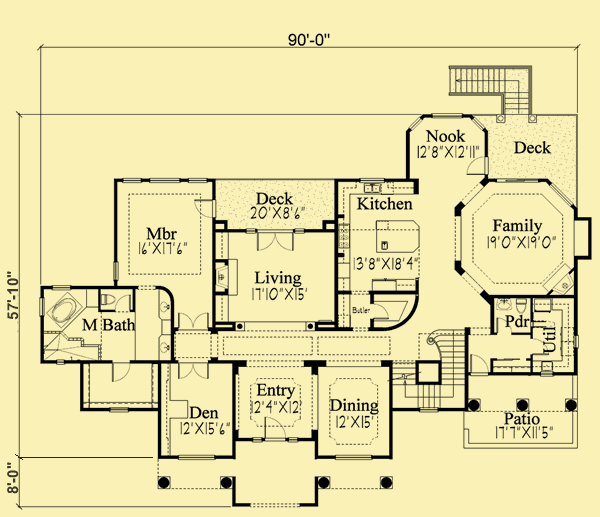door: (254, 230, 298, 255), (175, 360, 211, 382), (260, 414, 286, 442), (174, 310, 211, 329), (190, 195, 218, 219), (465, 153, 489, 177), (112, 358, 132, 385), (528, 336, 552, 356), (114, 294, 136, 314), (468, 352, 487, 374), (494, 314, 516, 333), (372, 301, 391, 319)
kitchen bar: (372, 218, 423, 255)
large sink: (514, 297, 532, 316), (99, 290, 115, 307)
small sink: (154, 334, 172, 358), (156, 295, 173, 320), (495, 298, 516, 314)
stairs: (388, 328, 467, 415), (446, 60, 532, 113)
tub: (49, 295, 80, 328)
twin sink: (361, 180, 383, 196)
windows: (119, 173, 210, 187), (548, 178, 576, 207), (172, 451, 217, 465), (492, 176, 541, 187), (332, 452, 376, 463), (106, 402, 131, 417), (35, 293, 49, 319), (406, 115, 424, 133), (469, 112, 488, 129), (110, 254, 121, 282), (49, 282, 74, 292)
